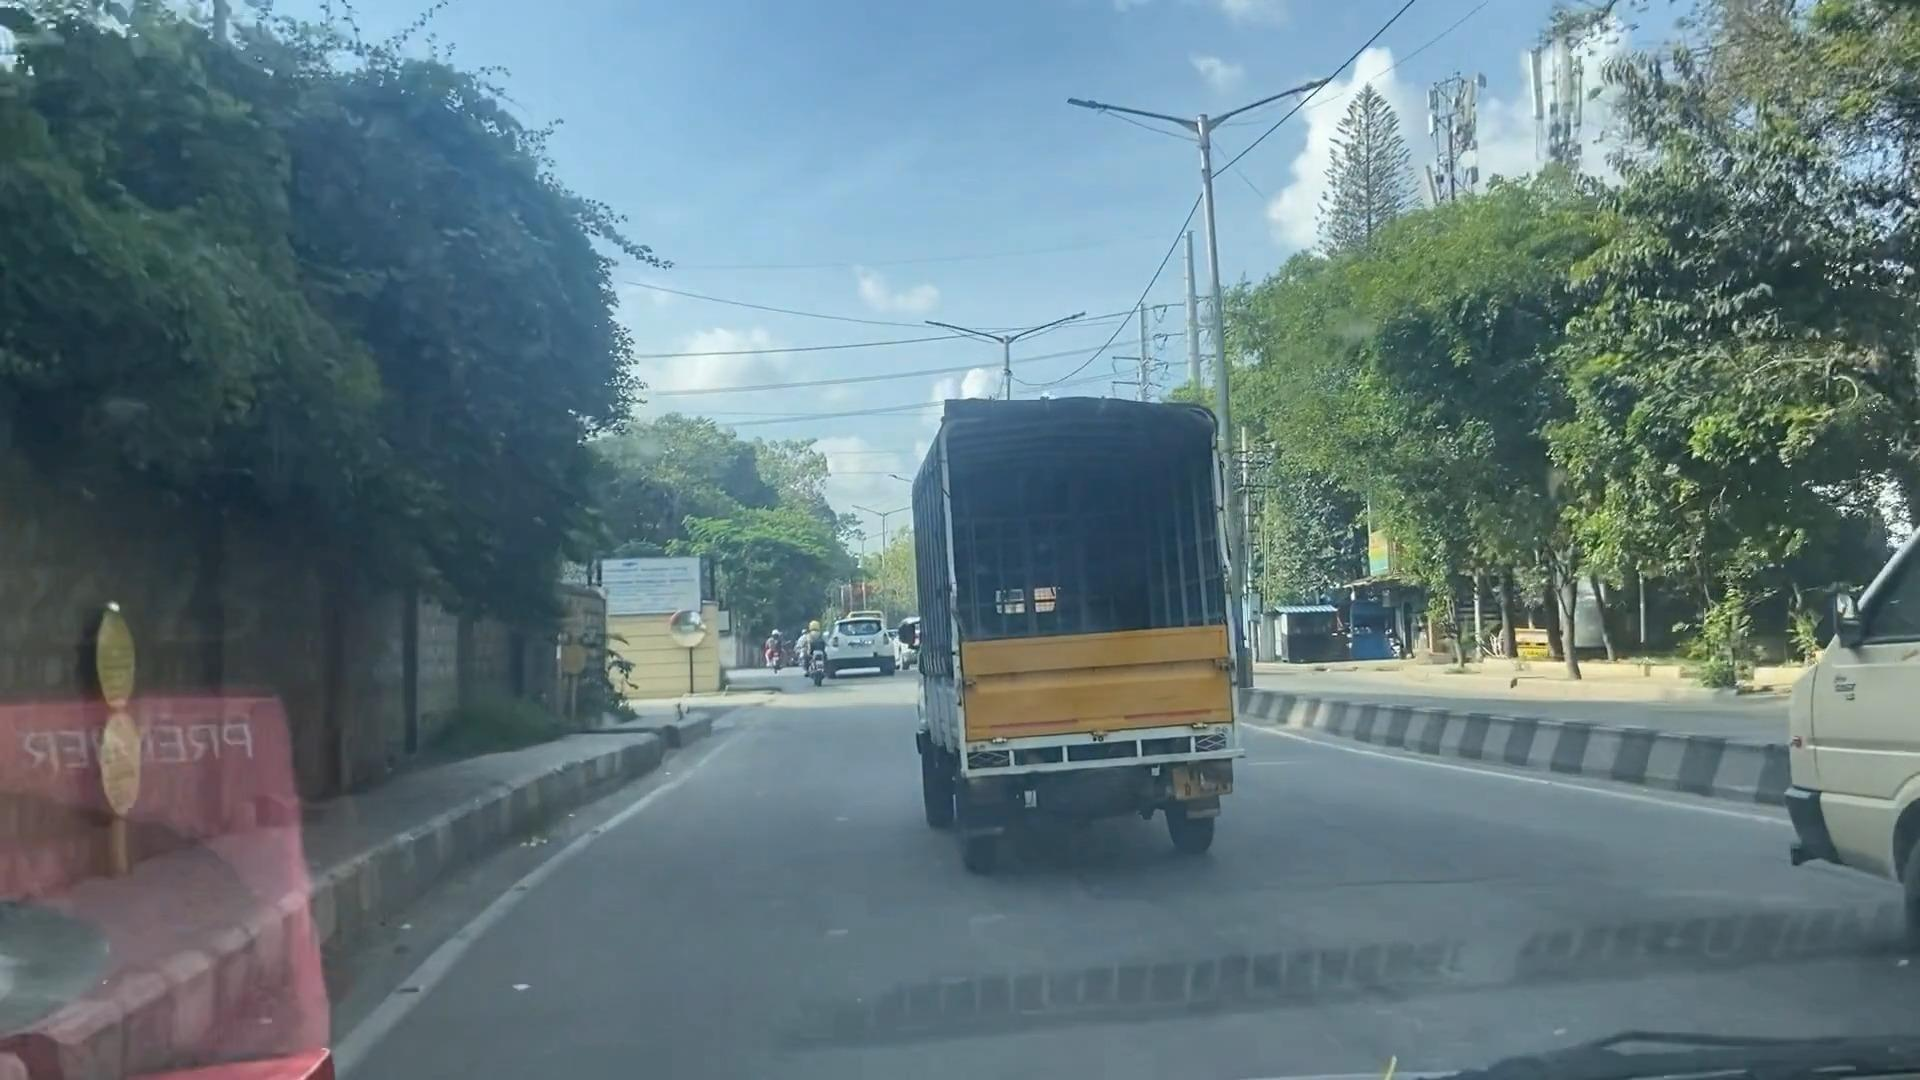HMV: (888, 349, 1311, 907)
